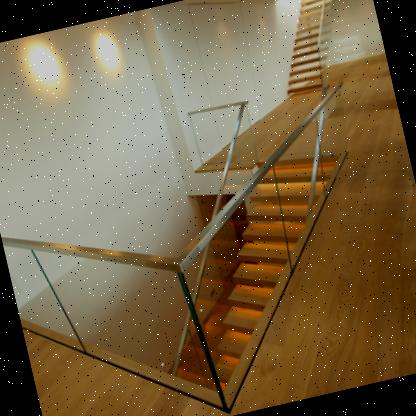stair: (270, 0, 352, 96), (246, 181, 312, 256)
